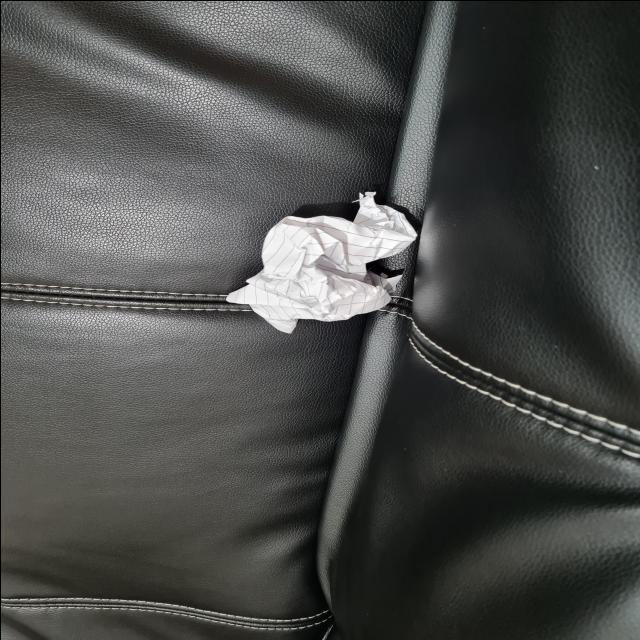kertas: (225, 190, 408, 332)
